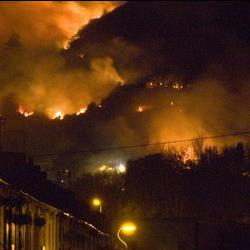fire: (50, 109, 66, 123), (21, 106, 32, 118), (77, 106, 85, 113)
